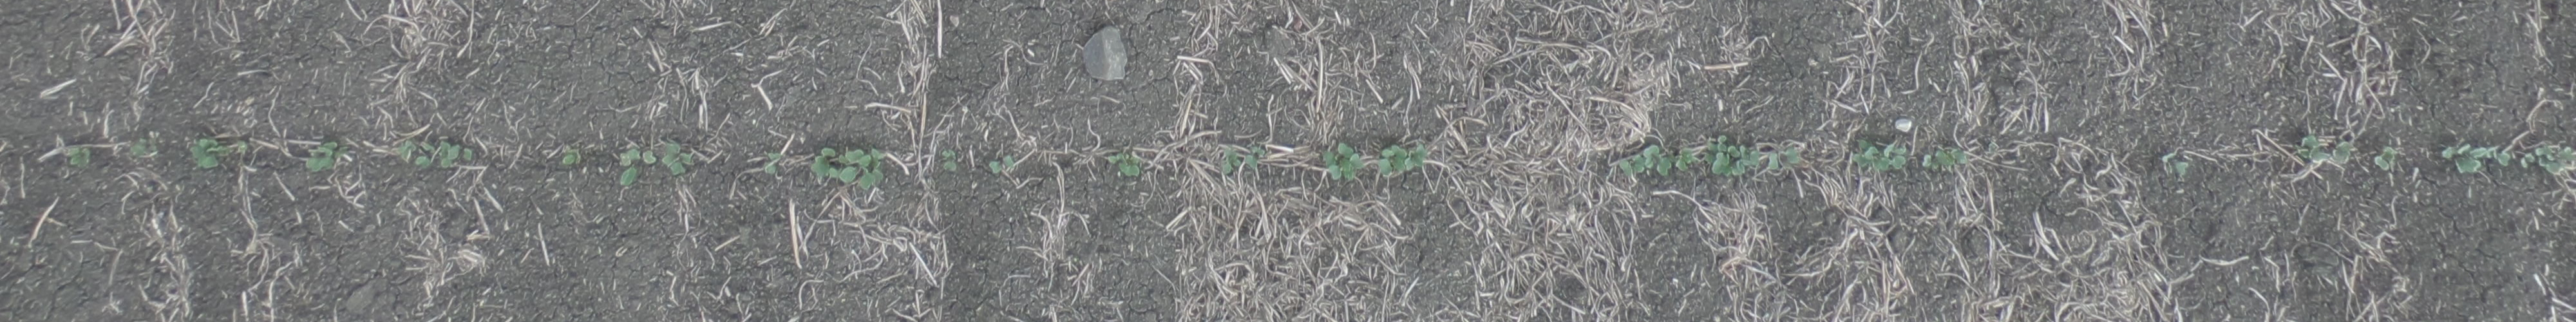clumped: (813, 146, 887, 189), (2441, 143, 2510, 176), (1324, 143, 1365, 182), (1855, 140, 1902, 171), (1705, 140, 1741, 177), (1380, 145, 1426, 174), (306, 141, 348, 172), (2535, 145, 2574, 176), (1922, 148, 1965, 172), (437, 140, 471, 169), (1107, 153, 1140, 179)
isolated: (619, 149, 654, 182), (664, 145, 693, 176), (1644, 146, 1672, 176), (191, 136, 217, 168), (2162, 151, 2188, 176), (1768, 149, 1802, 168), (989, 153, 1015, 176), (417, 140, 437, 169), (1620, 153, 1644, 176), (67, 146, 90, 169), (2298, 136, 2320, 161), (2333, 140, 2353, 164), (2376, 145, 2394, 171), (1219, 149, 1239, 172), (398, 138, 416, 161), (1245, 146, 1263, 169), (1738, 145, 1756, 164), (941, 149, 956, 171), (1676, 148, 1690, 169)
